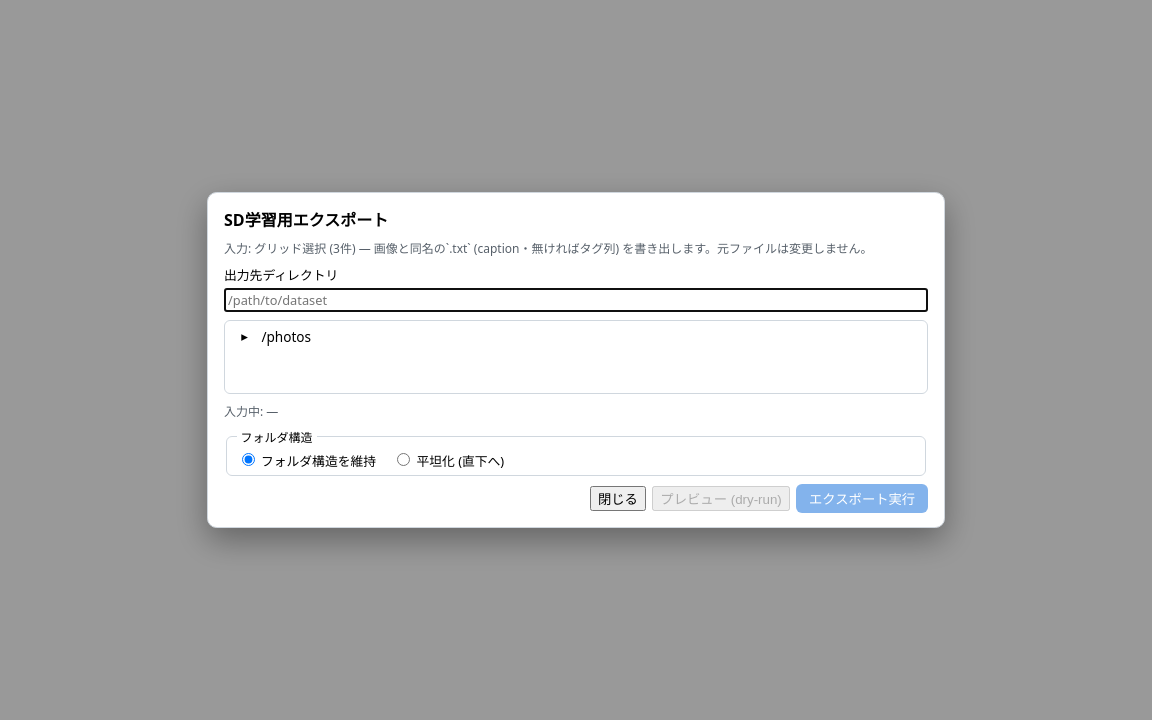
Test: ExportDialog (コンポーネント描画) › dry-runを実行し、表に既存分類とcaptionを表示する
Type "/out" into the field with test id "export-dest".
click(576, 300); type("/out")  # box [224, 288, 928, 312]
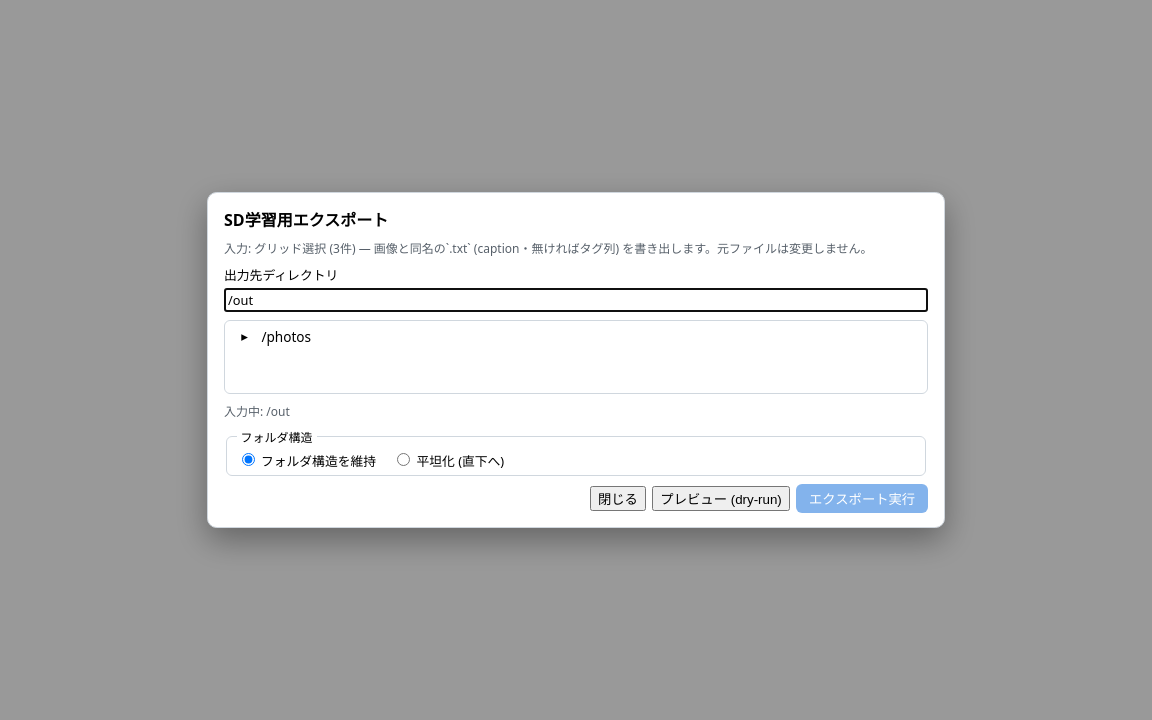
Click the button with test id "export-preview-button".
click(721, 498)  # box [652, 486, 790, 511]
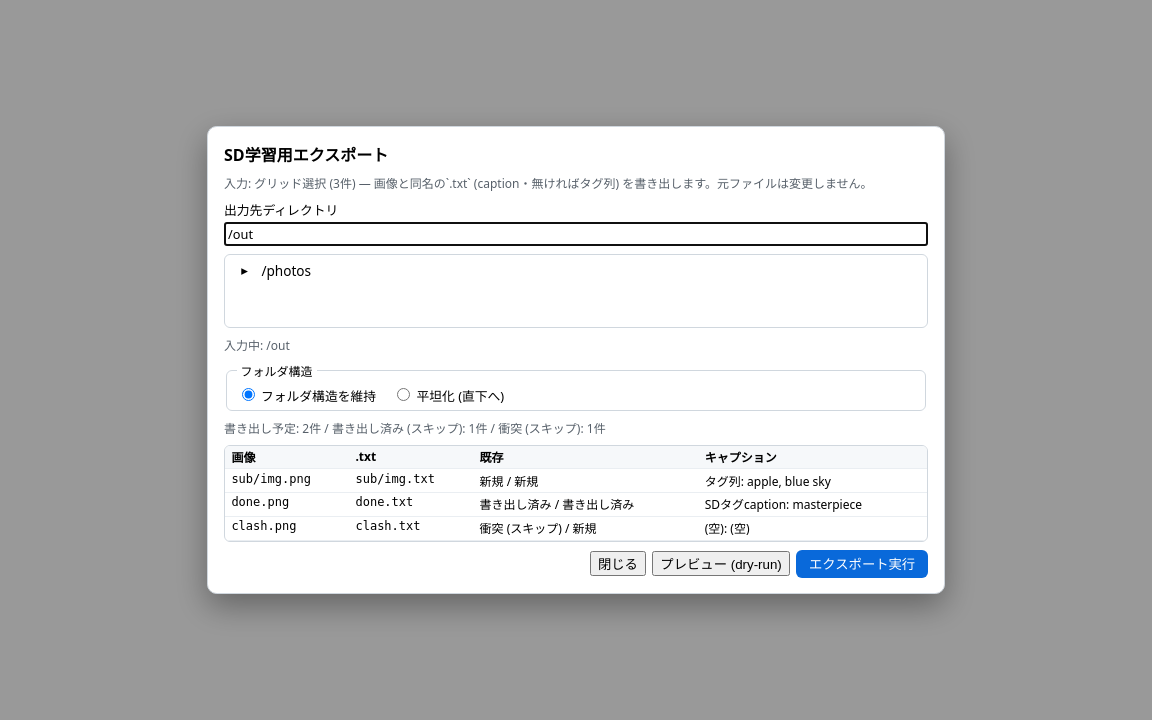
Expected: the text with test id "export-preview-summary" shows "書き出し予定: 2件", [224, 420, 606, 436]
Expected: the text with test id "export-preview-summary" shows "衝突 (スキップ): 1件", [224, 420, 606, 436]
Expected: the table with test id "export-preview-table" is shown, [225, 446, 927, 541]
